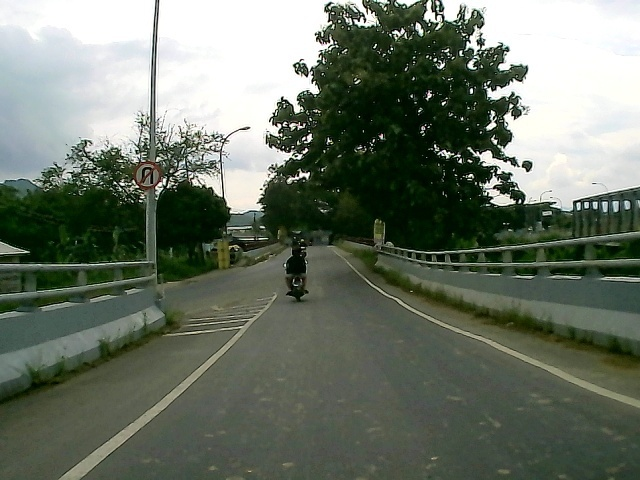Dilarang berbalik arah: (133, 161, 161, 190)
